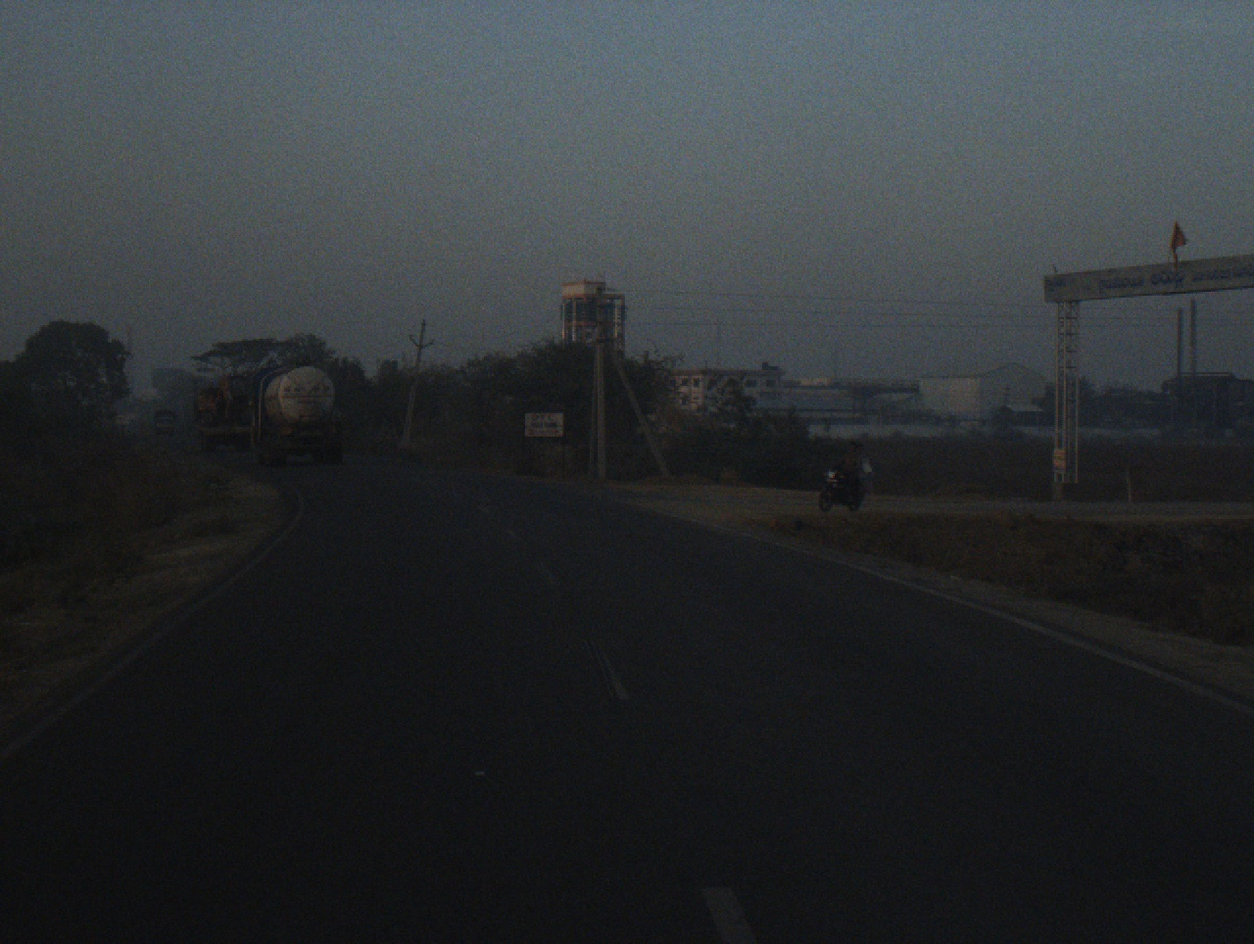motorcycle: (814, 460, 865, 511)
rider: (835, 440, 862, 505), (853, 443, 875, 492)
truck: (247, 355, 352, 471), (149, 405, 177, 443)
vehicle fallback: (192, 367, 256, 459)
